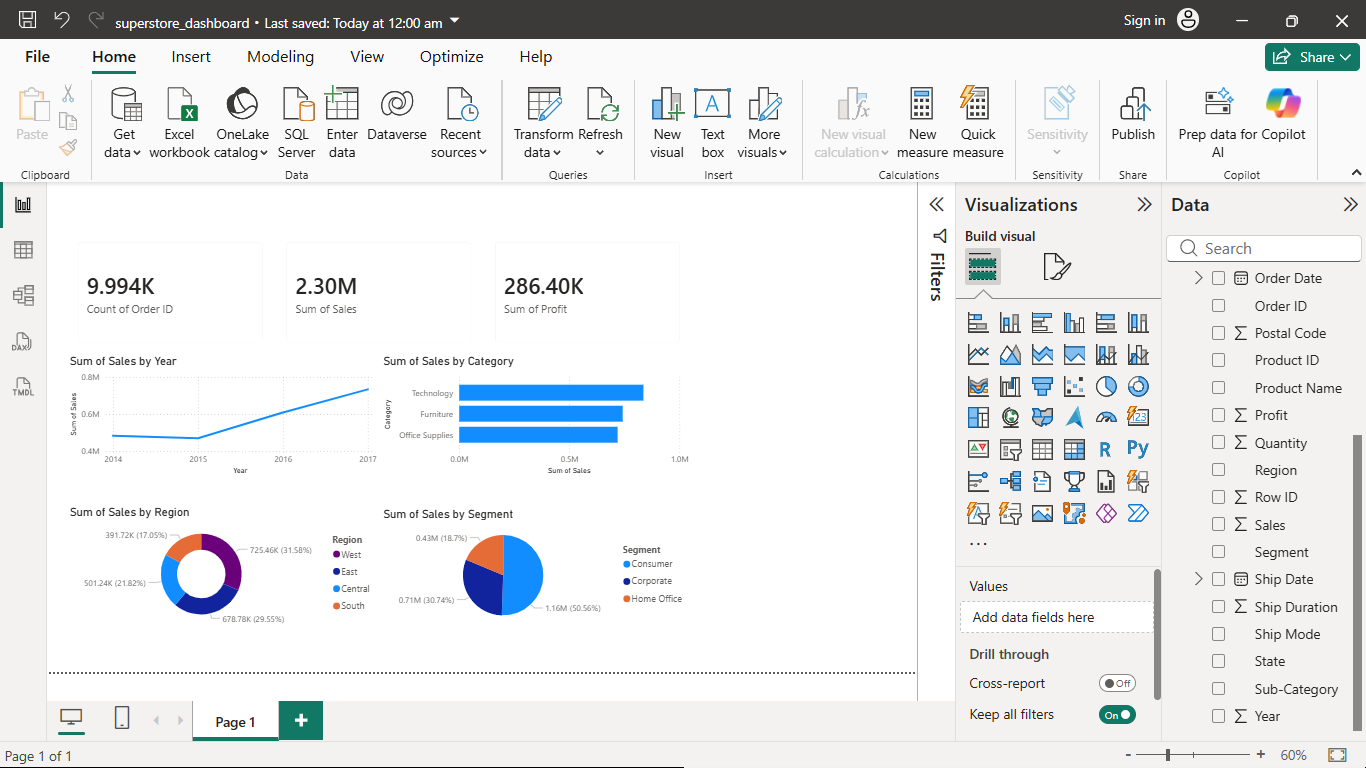

The dashboard page shown, as its layout file describes it:
{"tool":"powerbi","page":{"name":"Page 1","canvas":[1280,720],"ordinal":0},"visuals":[{"type":"cardVisual","fields":{"Data":["Sum(superstore_cleaned.Sales)"]},"box":[335.2,72.1,306.7,181],"z":0},{"type":"cardVisual","fields":{"Data":["Sum(superstore_cleaned.Profit)"]},"box":[642,72.1,306.7,181],"z":1},{"type":"cardVisual","fields":{"Data":["CountNonNull(superstore_cleaned.Order ID)"]},"box":[28.5,72.1,306.7,181],"z":2},{"type":"lineChart","fields":{"Category":["superstore_cleaned.Year"],"Y":["Sum(superstore_cleaned.Sales)"]},"box":[28.5,253.1,460.9,181],"z":3},{"type":"clusteredBarChart","fields":{"Category":["superstore_cleaned.Category"],"Y":["Sum(superstore_cleaned.Sales)"]},"box":[489.4,253.1,459.3,181],"z":4},{"type":"donutChart","fields":{"Category":["superstore_cleaned.Region"],"Y":["Sum(superstore_cleaned.Sales)"]},"box":[28,476.5,461,181],"z":5},{"type":"pieChart","fields":{"Category":["superstore_cleaned.Segment"],"Y":["Sum(superstore_cleaned.Sales)"]},"box":[489,477,459,181],"z":6}]}

Visuals, with their boxes on the page's 1280x720 design canvas (x1, y1, x2, y2). These are canvas units, not pixel positions in the 1366x768 screenshot, which may show the page scaled, cropped or inside an application window:
cardVisual - Sum(superstore_cleaned.Sales): <box>335,72,642,253</box>
cardVisual - Sum(superstore_cleaned.Profit): <box>642,72,949,253</box>
cardVisual - CountNonNull(superstore_cleaned.Order ID): <box>28,72,335,253</box>
lineChart - superstore_cleaned.Year x Sum(superstore_cleaned.Sales): <box>28,253,489,434</box>
clusteredBarChart - superstore_cleaned.Category x Sum(superstore_cleaned.Sales): <box>489,253,949,434</box>
donutChart - superstore_cleaned.Region x Sum(superstore_cleaned.Sales): <box>28,476,489,658</box>
pieChart - superstore_cleaned.Segment x Sum(superstore_cleaned.Sales): <box>489,477,948,658</box>
